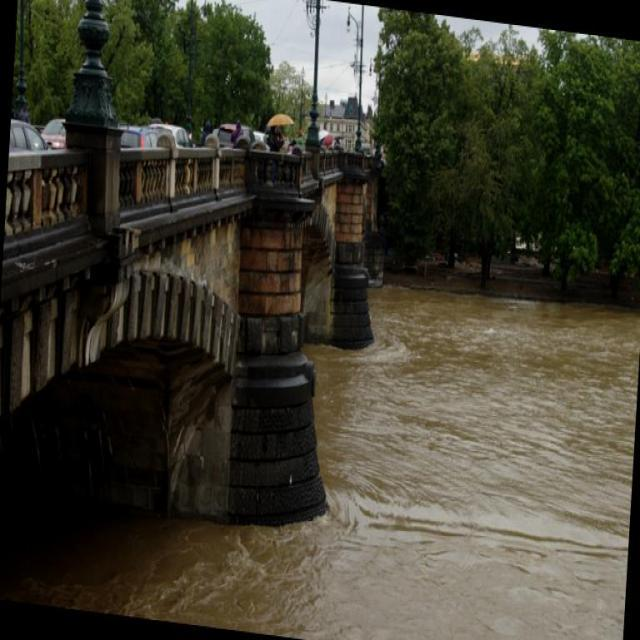flood: (289, 266, 640, 639)
